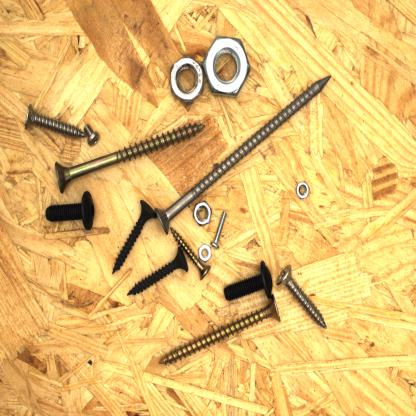screw: (152, 72, 335, 238), (51, 120, 206, 197), (157, 293, 284, 368), (271, 262, 333, 333), (110, 196, 160, 280), (125, 242, 193, 302), (168, 224, 214, 284), (21, 101, 88, 142), (42, 186, 98, 233), (219, 257, 276, 303), (208, 207, 229, 251), (82, 120, 102, 150)
